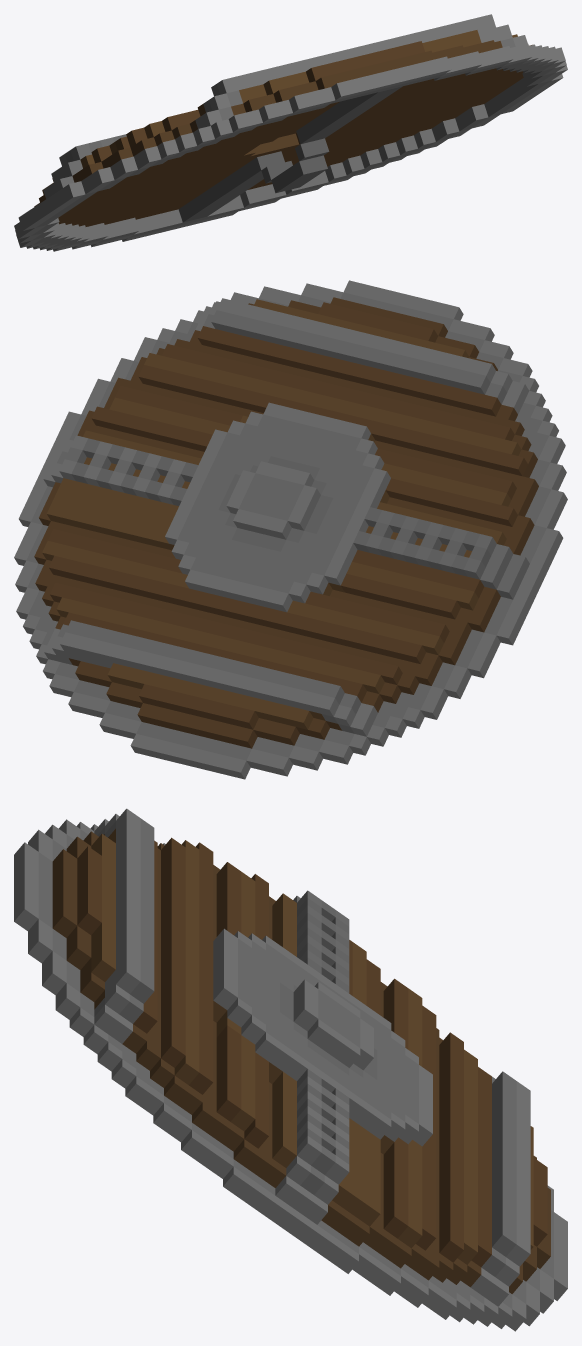
File: wooden_round_shield.glb
3 renders of one model, top to bottom at view 1: azimuth 30°, elevation 25°; view 2: azimuth 150°, elevation 25°; view 3: azimuth 270°, elevation 25°, orthographic. The views are drawn at different scales.
Parts seen in each view (by area): view 1: Object_2; view 2: Object_2; view 3: Object_2.
Boxes of the visible parts, left/top/right/bottom form: Object_2: left=14, top=14, right=567, bottom=251; Object_2: left=14, top=280, right=567, bottom=779; Object_2: left=14, top=808, right=567, bottom=1331.
Size of the model in its own units: 4 by 2.46 by 3.15.
1 material, 1 textured.
